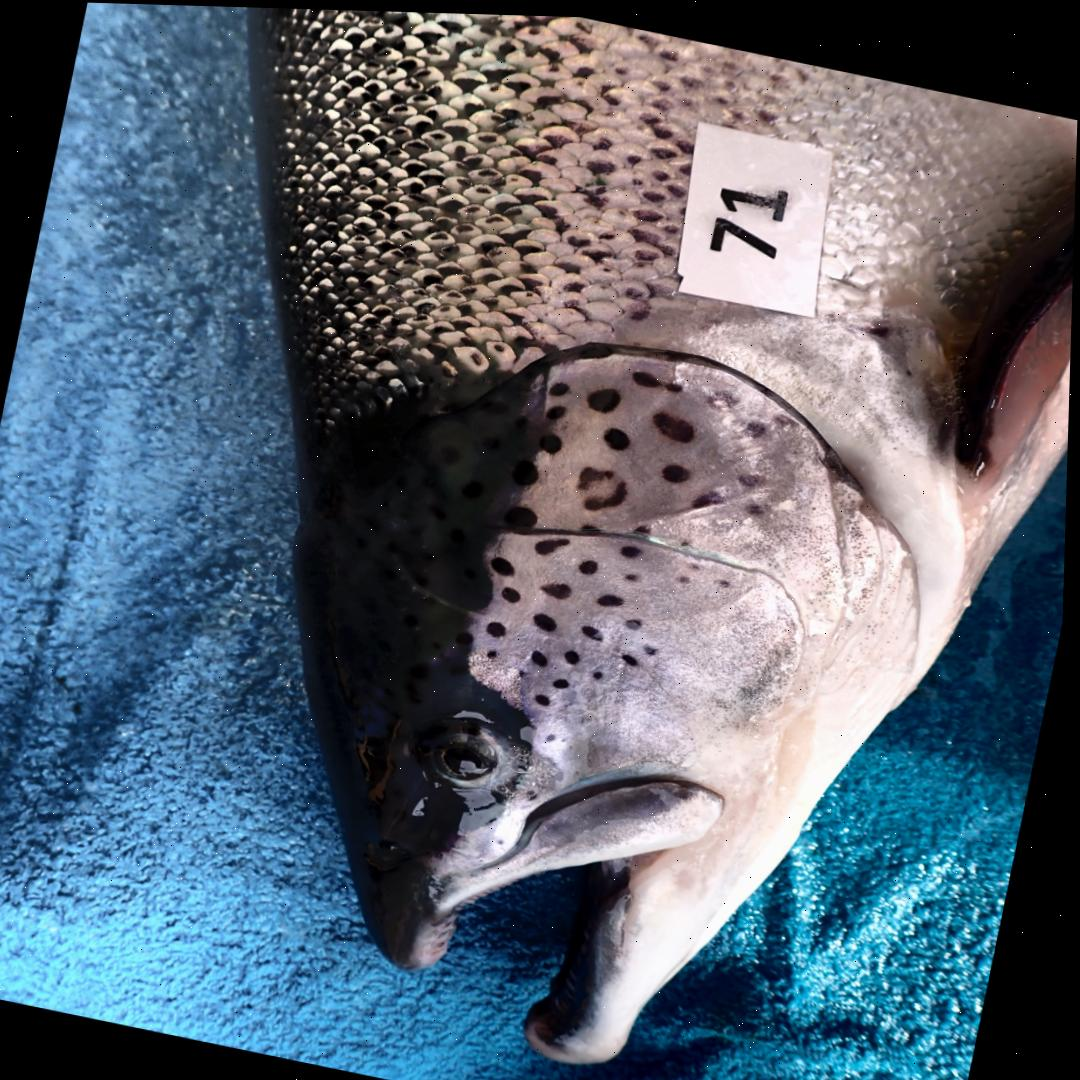spot: (655, 406, 696, 438), (587, 477, 629, 506), (633, 366, 684, 387), (589, 383, 622, 408), (580, 462, 616, 484), (515, 455, 541, 482), (507, 502, 541, 522), (606, 423, 632, 445), (538, 534, 572, 550), (695, 486, 726, 503), (664, 459, 691, 477), (541, 429, 564, 449), (544, 579, 574, 594), (494, 552, 517, 571), (712, 385, 738, 401), (537, 609, 560, 627), (600, 589, 626, 602), (747, 416, 768, 432), (585, 620, 606, 636), (742, 469, 767, 482), (550, 378, 571, 392), (581, 555, 600, 570), (490, 618, 508, 633), (505, 583, 523, 598), (548, 401, 567, 415), (535, 646, 551, 662), (623, 541, 644, 552), (459, 628, 476, 641), (568, 646, 583, 660), (746, 498, 765, 509), (634, 520, 654, 529), (629, 614, 645, 625), (625, 650, 641, 661), (538, 690, 554, 701), (556, 674, 572, 684), (583, 520, 601, 528), (647, 640, 660, 650), (719, 573, 733, 581), (680, 570, 693, 577), (596, 665, 606, 674), (628, 569, 640, 576), (490, 646, 500, 654), (523, 665, 530, 673), (551, 730, 558, 736)
